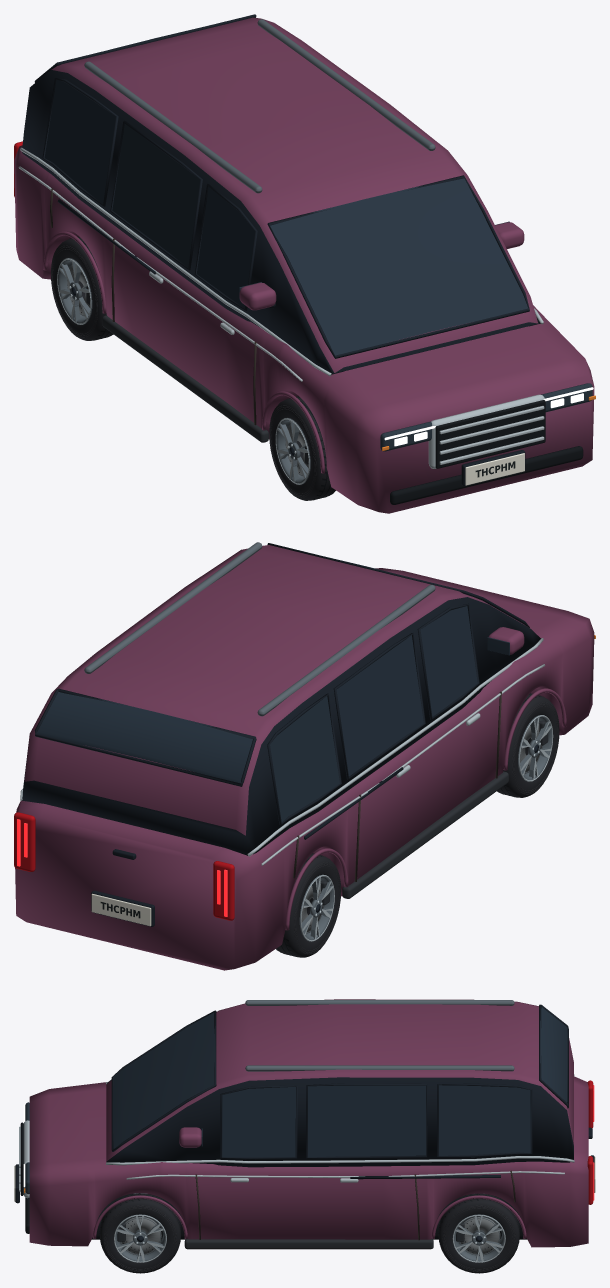
The model's file is minivan.glb.
The picture shows the model from 3 angles, top to bottom: view 1: azimuth 30°, elevation 25°; view 2: azimuth 150°, elevation 25°; view 3: azimuth 270°, elevation 25°; orthographic projection. The views are drawn at different scales.
Visible parts, largest first — view 1: body, wheel_FR, wheel_RR; view 2: body, wheel_RR, wheel_FR; view 3: body, wheel_RL, wheel_FL.
Part boxes in pixels (left/top/right/bottom): body: left=14, top=14, right=595, bottom=513; wheel_FR: left=269, top=396, right=335, bottom=500; wheel_RR: left=51, top=236, right=113, bottom=340; body: left=14, top=542, right=595, bottom=970; wheel_RR: left=276, top=853, right=341, bottom=957; wheel_FR: left=497, top=693, right=559, bottom=797; body: left=14, top=999, right=595, bottom=1249; wheel_RL: left=438, top=1193, right=519, bottom=1273; wheel_FL: left=99, top=1193, right=180, bottom=1273.
Size of the model in its own units: 2.16 by 1.9 by 5.1.
